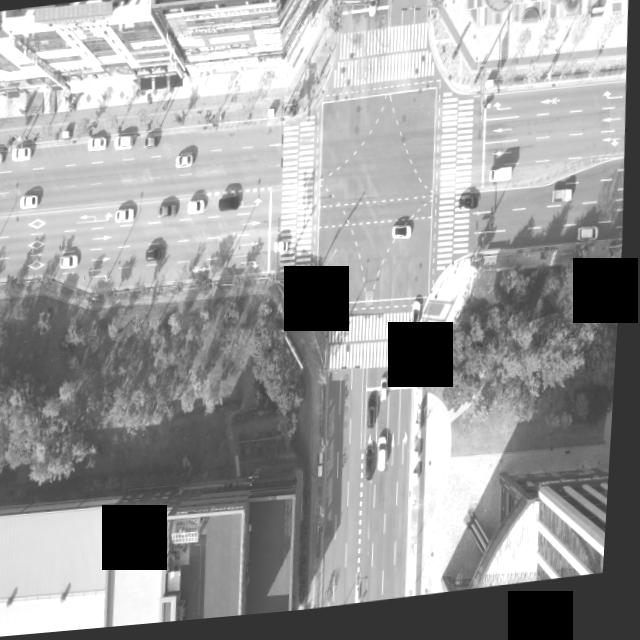car: (412, 306, 426, 345), (327, 299, 343, 327), (461, 201, 483, 220), (382, 444, 393, 481), (118, 208, 140, 226), (370, 452, 381, 488), (396, 232, 417, 249), (222, 199, 242, 216), (23, 193, 43, 210), (115, 137, 135, 154), (15, 146, 35, 163), (90, 138, 111, 154), (372, 402, 382, 435), (177, 157, 196, 174), (161, 206, 181, 222), (581, 236, 601, 252), (150, 251, 168, 268), (63, 254, 82, 270), (190, 202, 209, 218), (367, 0, 379, 23), (146, 138, 163, 153), (384, 382, 393, 408), (0, 150, 7, 166)
small_truck: (492, 174, 516, 193), (554, 198, 575, 214), (380, 0, 390, 5)
